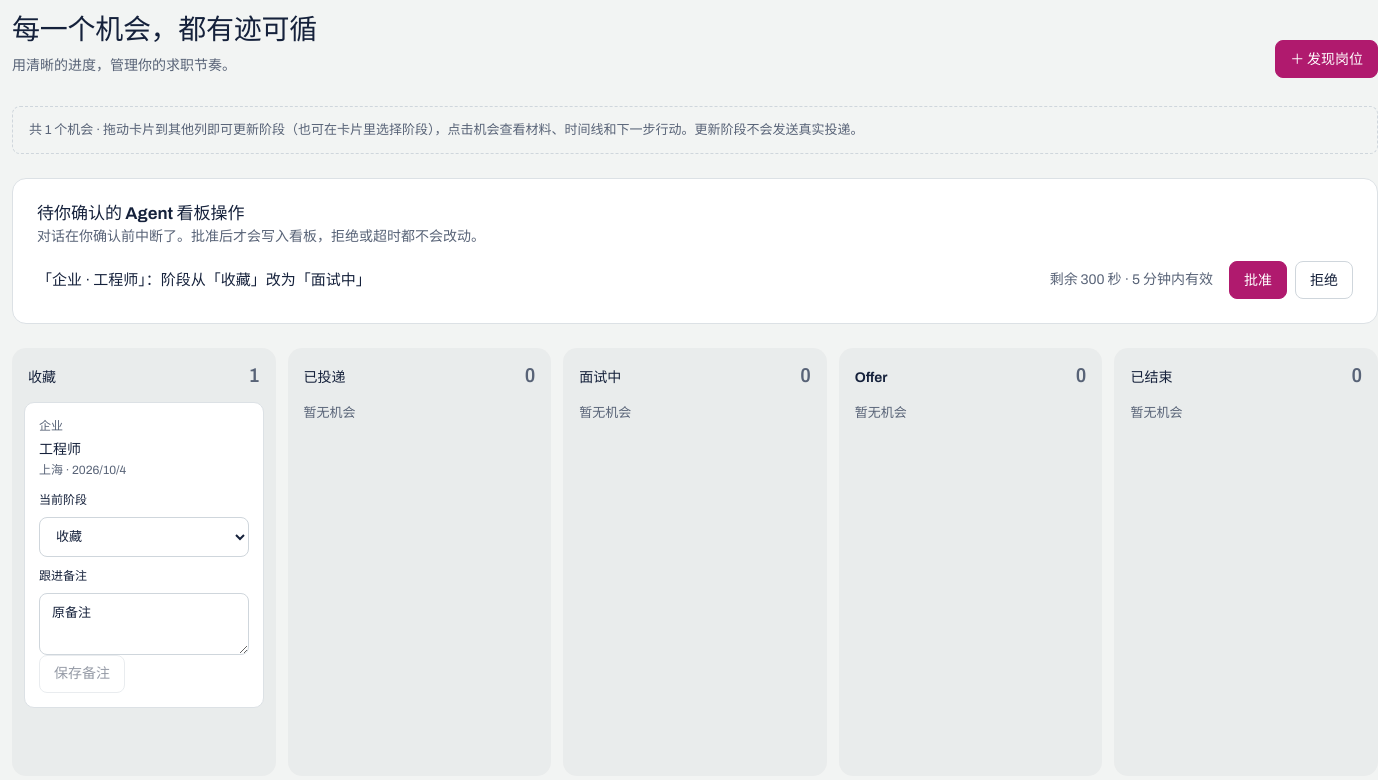
an agent write left pending by a closed chat is applied only after approval on the board
Expected: the element showing "企业 工程师 上海 · 2026/10/4 当前阶段 跟进备注 保存备注" is shown, [24,402,264,708]
What coordinates should you click on to do the following:
click the button "批准"
I would click on:
 (1258, 280)
Its box is [1229,261,1287,299].
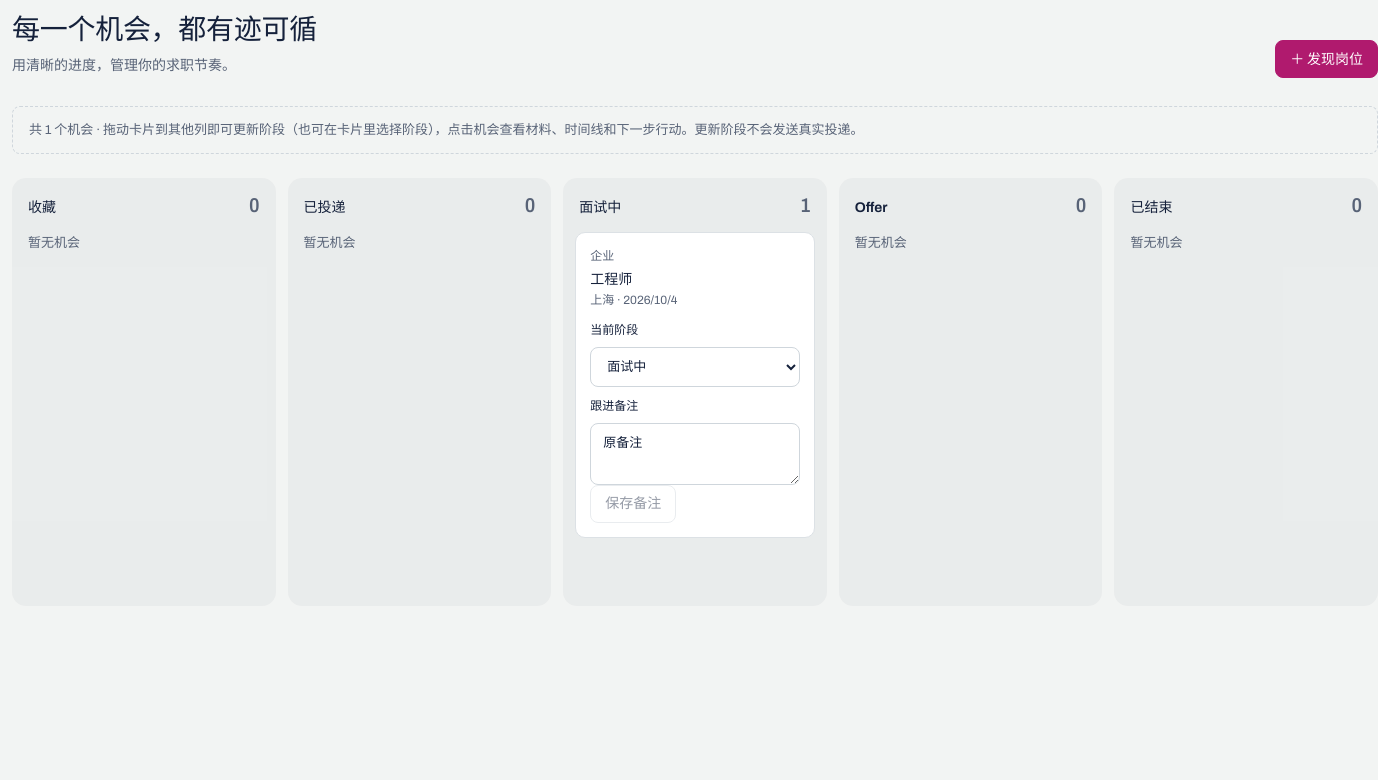
Expected: the element showing "企业 工程师 上海 · 2026/10/4 当前阶段 跟进备注 保存备注" is shown, [575,232,815,538]
Expected: the text "待你确认的 Agent 看板操作" is gone
